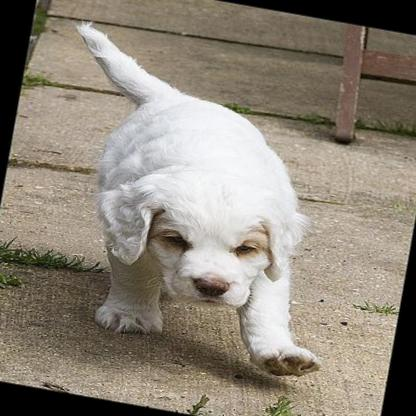clumber: (15, 16, 376, 383)
